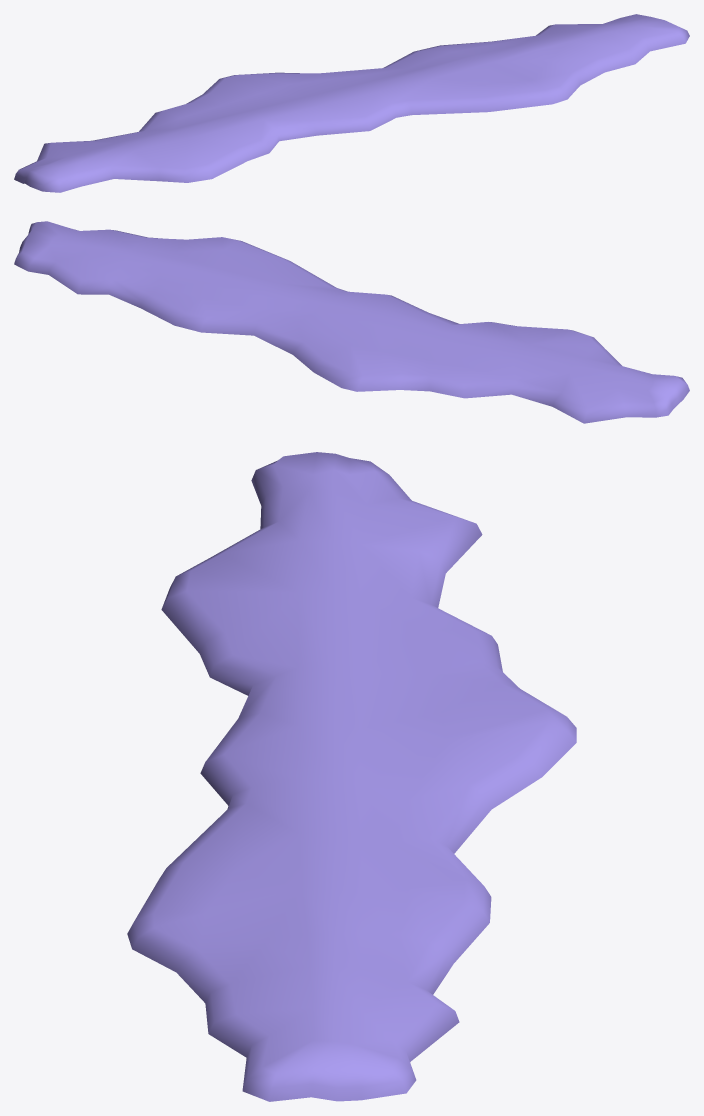
The model's file is item_f_lubian_rm10.fbx.
The picture shows the model from 3 angles, top to bottom: view 1: azimuth 30°, elevation 25°; view 2: azimuth 150°, elevation 25°; view 3: azimuth 270°, elevation 25°; orthographic projection. The views are drawn at different scales.
Parts seen in each view (by area): view 1: item_f_lubian_rm10; view 2: item_f_lubian_rm10; view 3: item_f_lubian_rm10.
Boxes of the visible parts, left/top/right/bottom form: item_f_lubian_rm10: left=14, top=14, right=689, bottom=192; item_f_lubian_rm10: left=14, top=221, right=689, bottom=423; item_f_lubian_rm10: left=127, top=452, right=576, bottom=1101.
Bounding box in the file's own units: 1938 × 58.02 × 581.
